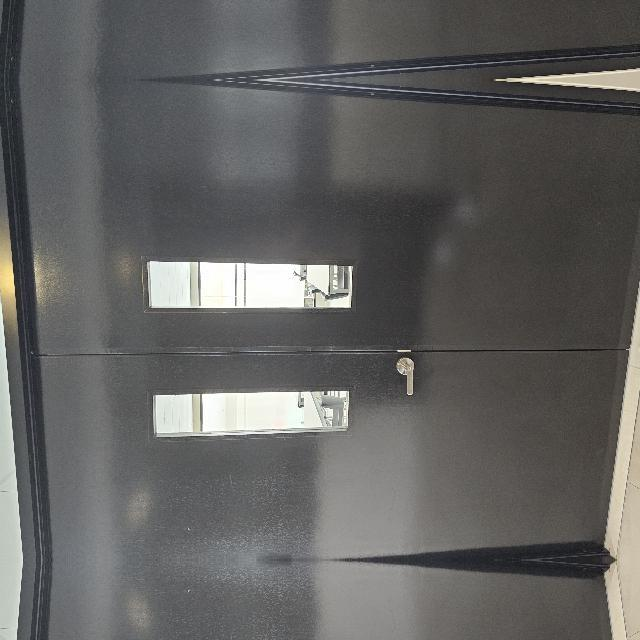door: (2, 83, 478, 640), (2, 403, 478, 640), (2, 0, 478, 77)
